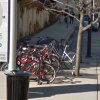Bicycle: (17, 37, 80, 89)
